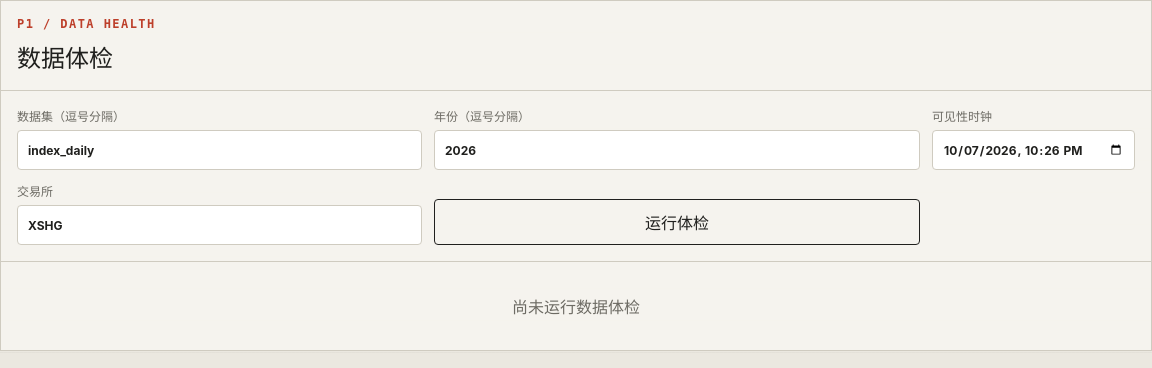
Test: DataHealthPage › renders the server's own words when the check itself fails
Step 1. Click the button "运行体检" → x=677, y=222, box [434,199,920,245]
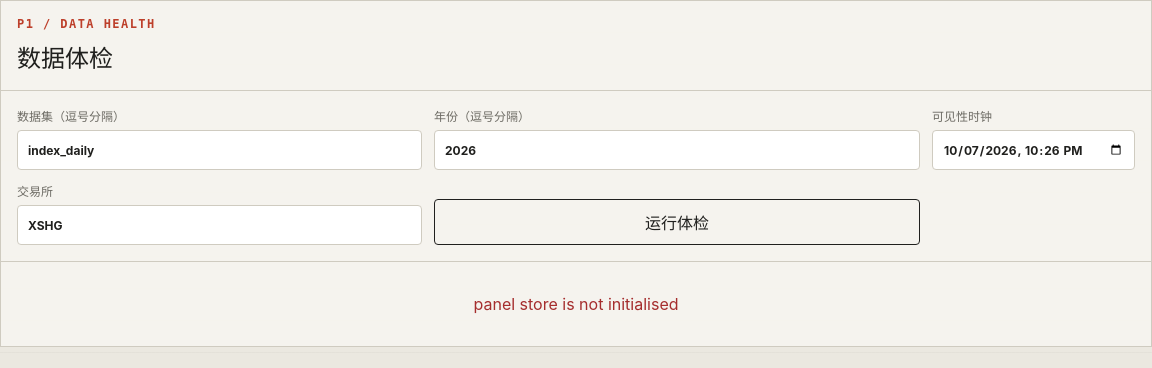
Now the message reads "panel store is not initialised", box [474,294,678,314]
